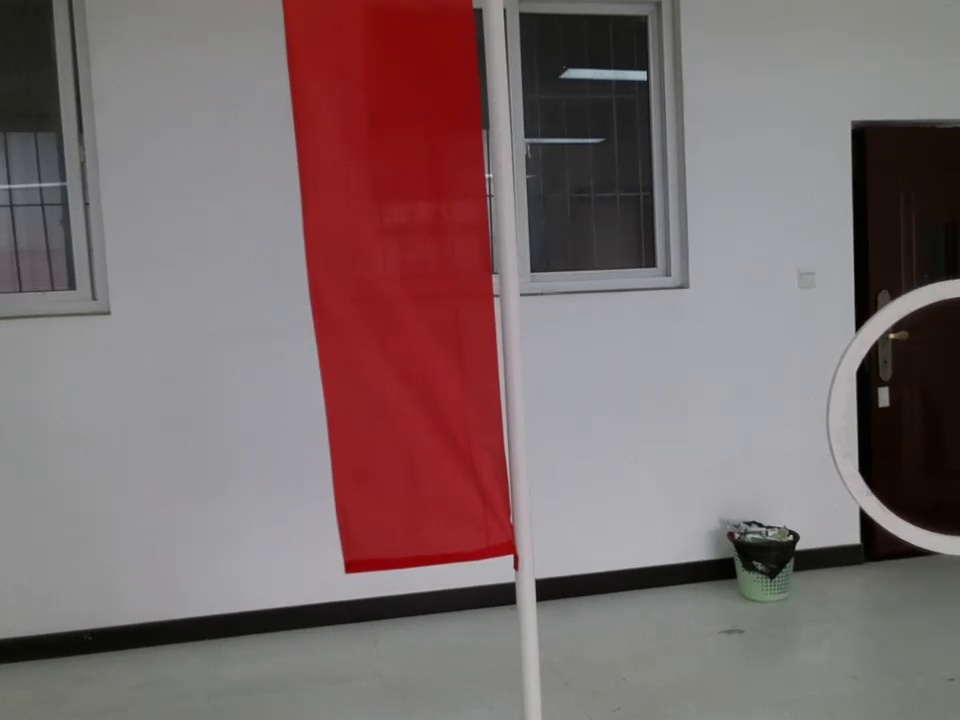qi: (272, 1, 535, 578)
quan: (818, 276, 960, 563)
